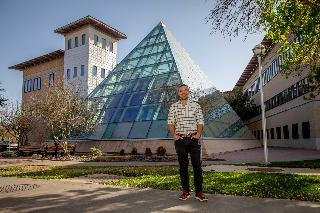person - v3 P: (168, 85, 207, 201)
